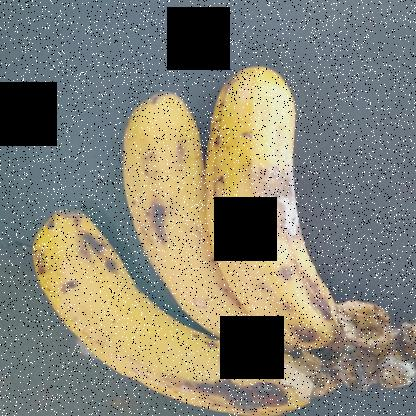overripe: (21, 197, 318, 416), (119, 82, 286, 348), (207, 48, 351, 332)
rotten: (241, 155, 332, 256)
